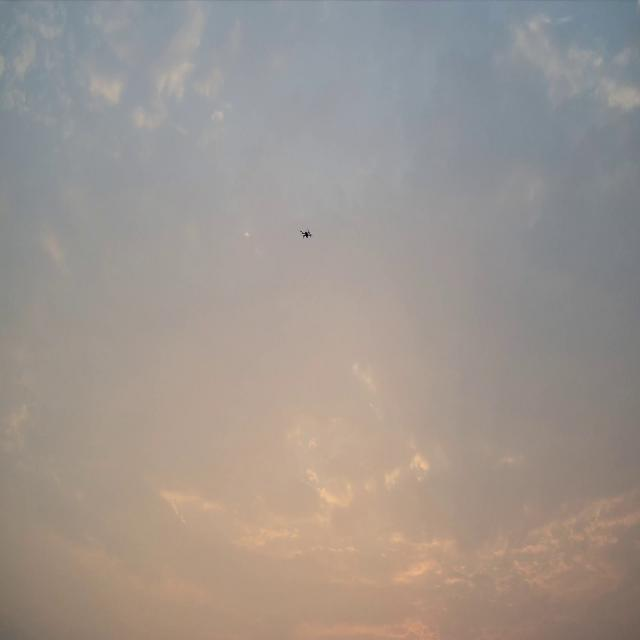drone: (300, 228, 314, 239)
